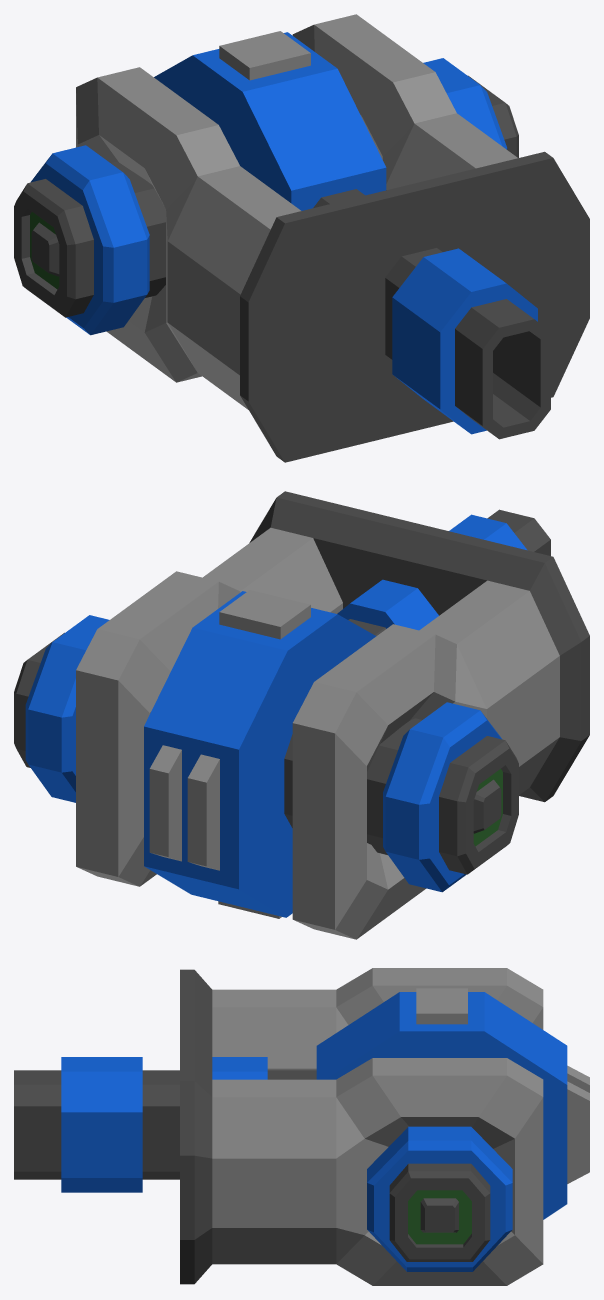
The model's file is Instrument_Laser.fbx.
3 renders of one model, top to bottom at view 1: azimuth 30°, elevation 25°; view 2: azimuth 150°, elevation 25°; view 3: azimuth 270°, elevation 25°, orthographic. The views are drawn at different scales.
Parts seen in each view (by area): view 1: DroneLaserBarrel, DroneLaserBase, DroneLaser; view 2: DroneLaserBarrel, DroneLaser, DroneLaserBase; view 3: DroneLaser, DroneLaserBarrel, DroneLaserBase.
Part boxes in pixels (x1,y1,x2,y2): DroneLaserBarrel: [14, 31, 550, 439]; DroneLaserBase: [240, 151, 589, 462]; DroneLaser: [76, 14, 517, 409]; DroneLaserBarrel: [14, 509, 550, 918]; DroneLaser: [76, 527, 559, 939]; DroneLaserBase: [249, 491, 589, 802]; DroneLaser: [212, 968, 543, 1285]; DroneLaserBarrel: [14, 988, 589, 1271]; DroneLaserBase: [180, 969, 212, 1284].
Bounding box in the file's own units: 0.5088 × 0.3132 × 0.6604.
